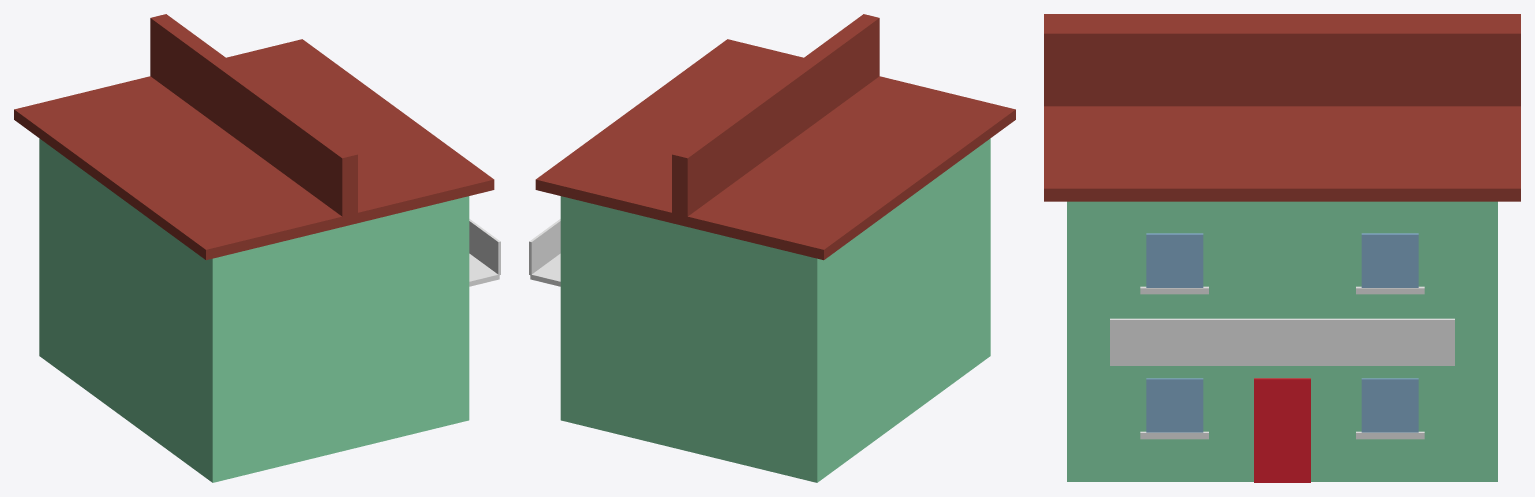
Rendered from casa_playa_3.obj.
3 views of the same model, side by side, from view 1: azimuth 30°, elevation 25°; view 2: azimuth 150°, elevation 25°; view 3: azimuth 270°, elevation 25° (orthographic). The views are drawn at different scales.
Visible parts, largest first — view 1: casa_playa_3; view 2: casa_playa_3; view 3: casa_playa_3.
Part boxes in pixels (x1=…): casa_playa_3: x1=14, y1=14, x2=500, y2=482; casa_playa_3: x1=529, y1=14, x2=1015, y2=482; casa_playa_3: x1=1044, y1=14, x2=1520, y2=482.
Size of the model in its own units: 8.07 by 7.25 by 8.35.
